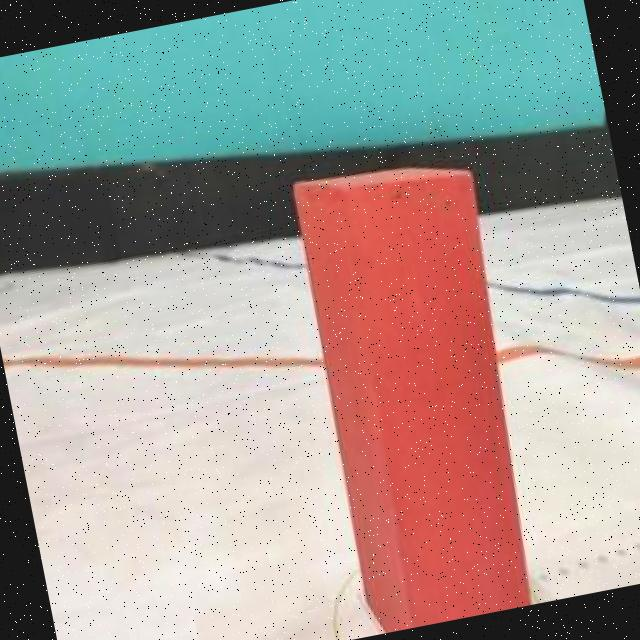redbox: (289, 152, 536, 634)
